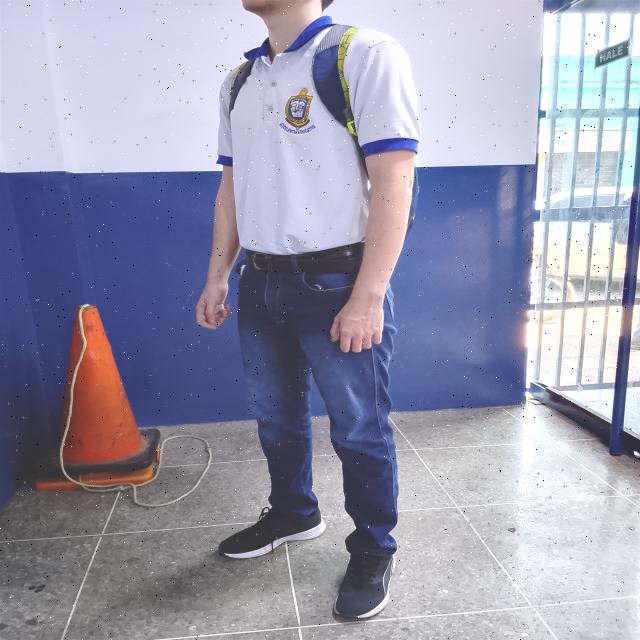pantalon_oscuro: (236, 254, 400, 568)
uniforme_superior: (214, 15, 420, 256)
